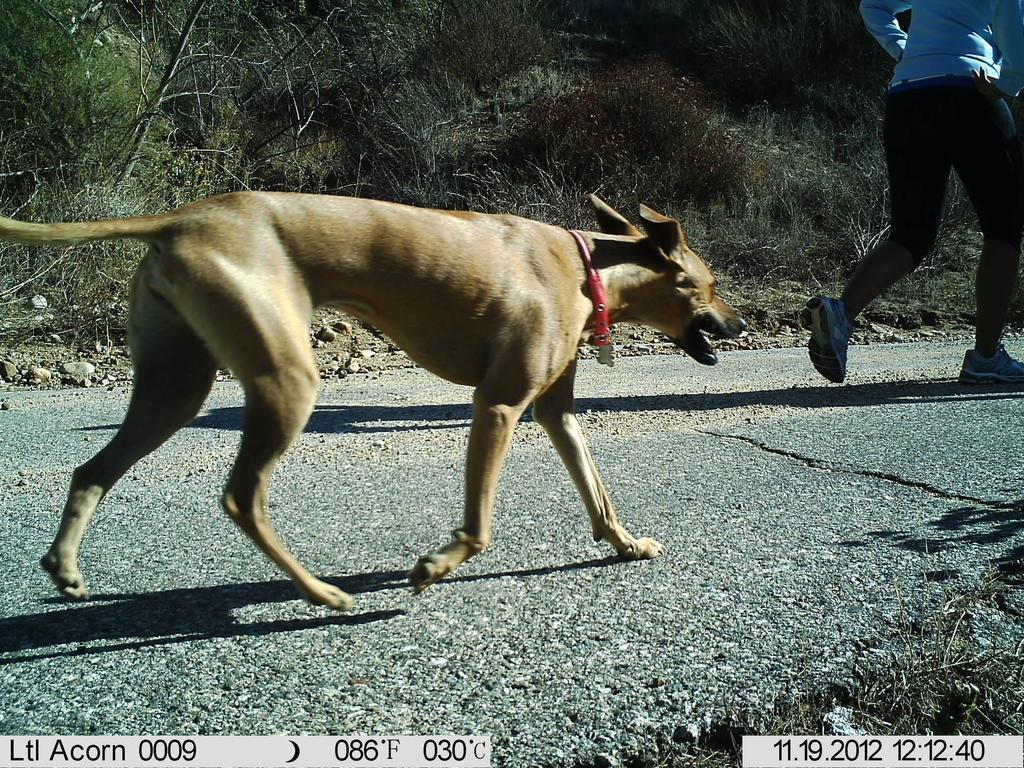dog: (7, 167, 744, 635)
